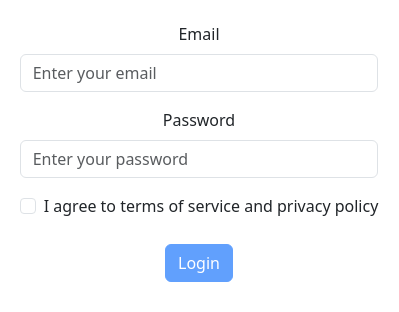
Test: Login Test › hatalı eposta girişi yapınca buton disabled olmalı
Type "1234" into the password field named "password".
click(200, 159); type("1234")  # box [20,140,379,178]
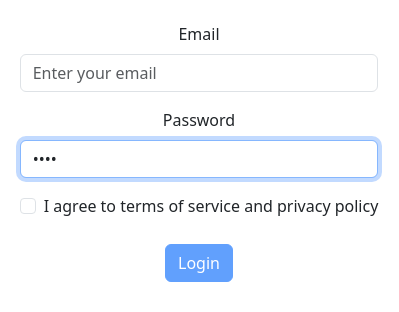
Click the checkbox named "terms".
click(28, 206)  # box [20,198,36,214]
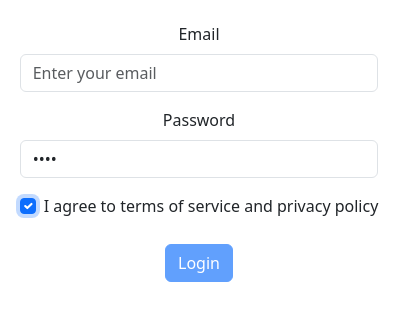
Type "asd@adfacom" into the field named "email".
click(200, 73); type("asd@adfacom")  # box [20,54,379,92]
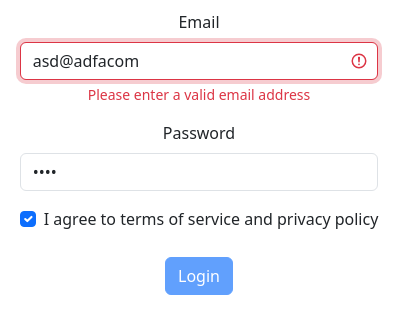
Expected: the button with test id "login-submit" is disabled, [165,257,233,295]
Expected: the text "Please enter a valid email address" is shown, [88,84,310,104]
Expected: the number of elements with test id "email-error-text" is 1, [88,85,311,104]
